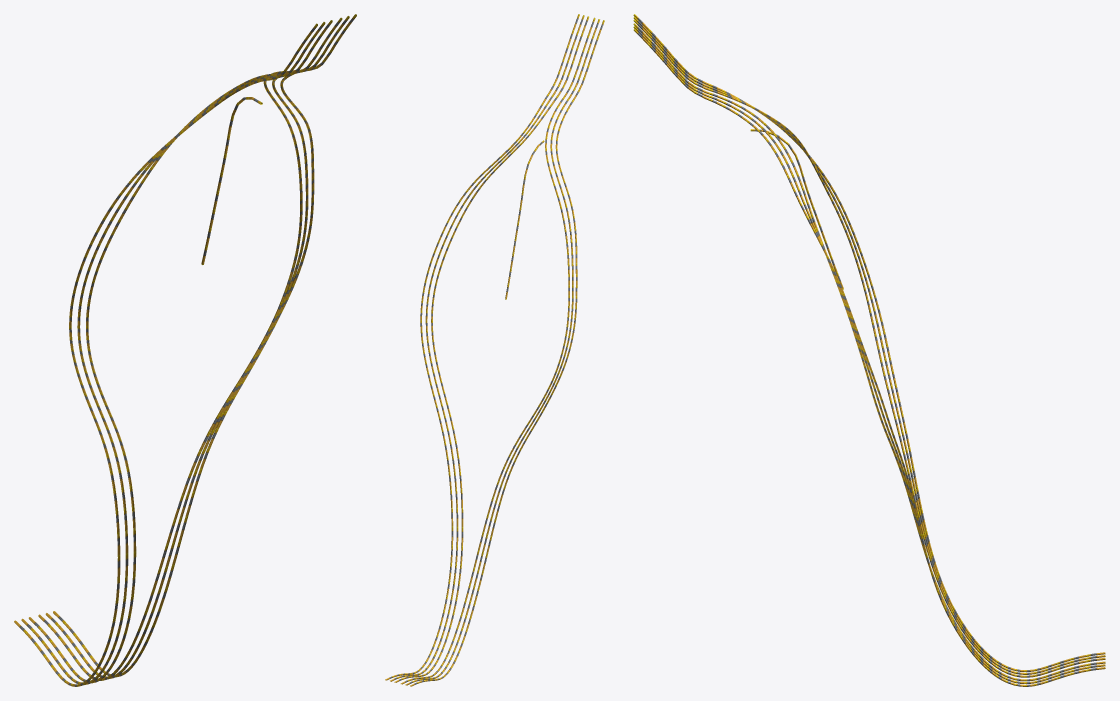
The model's file is 2PEgg_fleet1.obj.
3 renders of one model, left to right at view 1: azimuth 30°, elevation 25°; view 2: azimuth 150°, elevation 25°; view 3: azimuth 270°, elevation 25°, orthographic. The views are drawn at different scales.
Visible parts, largest first — view 1: Object_2; view 2: Object_2; view 3: Object_2.
Part boxes in pixels (left/top/right/bottom): Object_2: left=14, top=14, right=356, bottom=686; Object_2: left=385, top=14, right=604, bottom=686; Object_2: left=633, top=14, right=1105, bottom=686.
Size of the model in its own units: 976 by 3322 by 2160.
